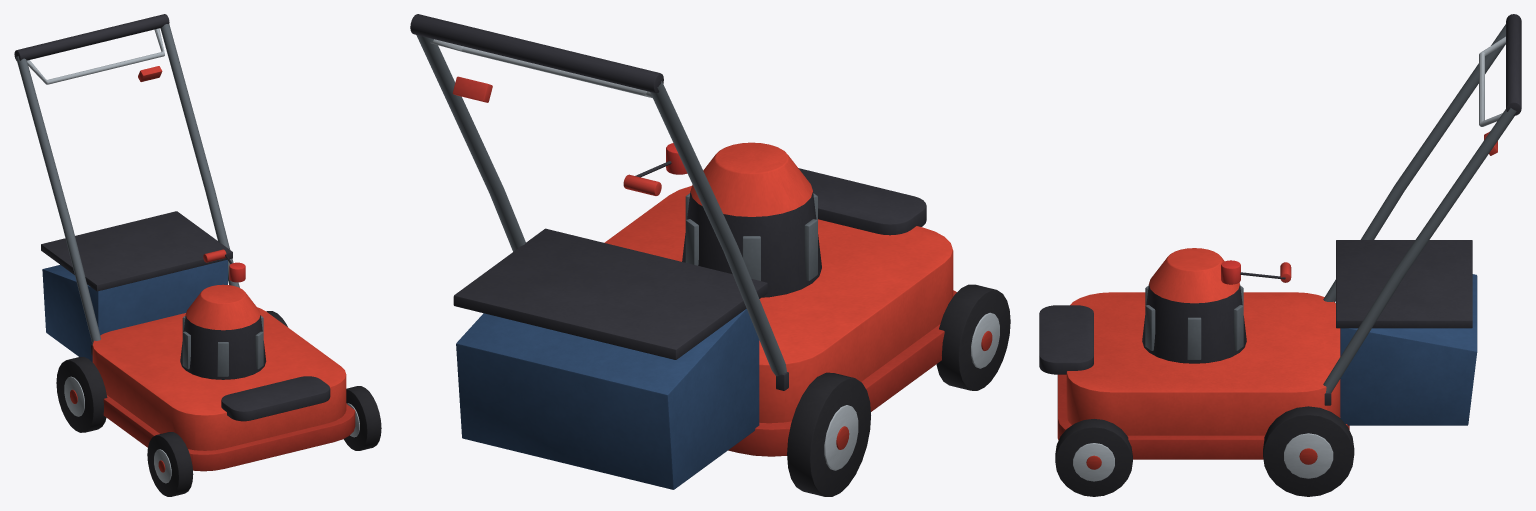
The model's file is cortacesped.gltf.
3 views of the same model, side by side, from view 1: azimuth 30°, elevation 25°; view 2: azimuth 150°, elevation 25°; view 3: azimuth 270°, elevation 25° (orthographic). The views are drawn at different scales.
Visible parts, largest first — view 1: cortacesped; view 2: cortacesped; view 3: cortacesped.
Part boxes in pixels (x1,y1,x2,y2): cortacesped: [14, 14, 381, 496]; cortacesped: [410, 14, 1010, 496]; cortacesped: [1039, 14, 1521, 496].
Size of the model in its own units: 0.635 by 0.917 by 1.06.
Materials: 9 (9 with a texture image).
